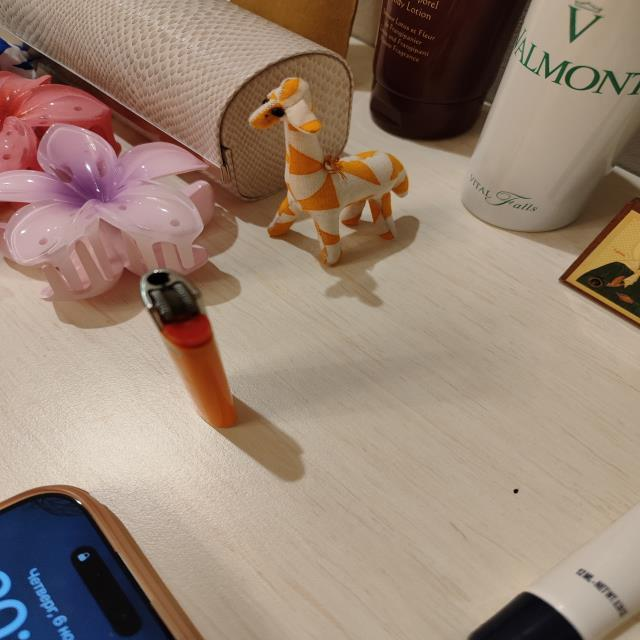lighter: (141, 270, 237, 427)
